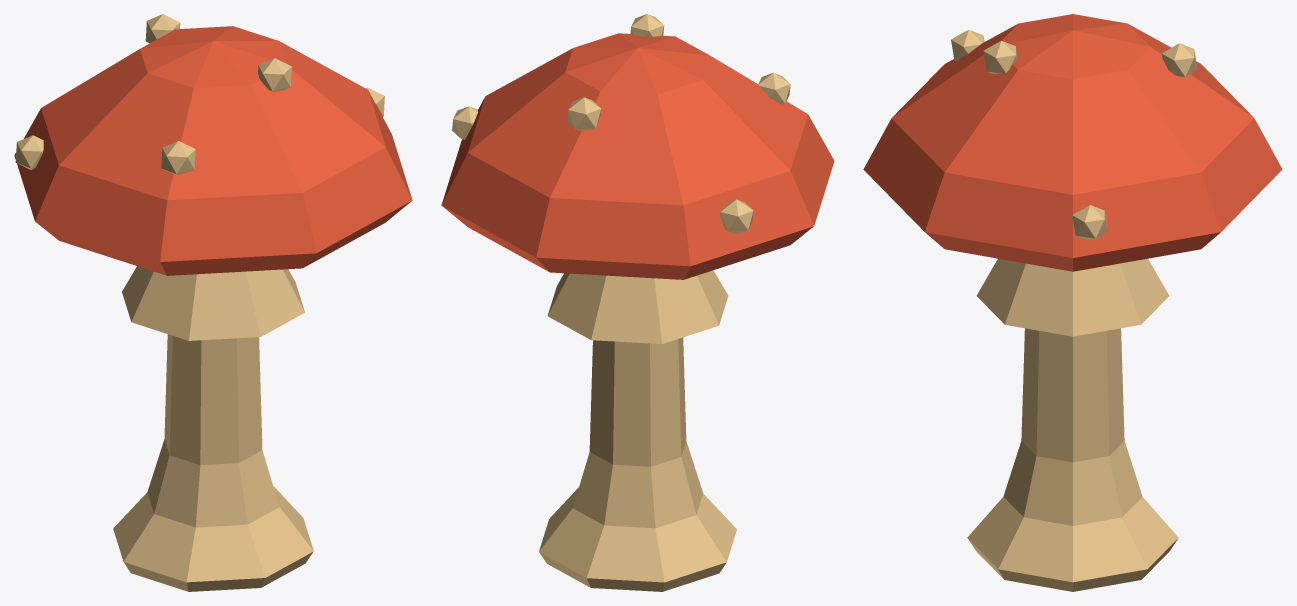
Rendered from Toadstool.fbx.
3 views of the same model, side by side, from view 1: azimuth 30°, elevation 25°; view 2: azimuth 150°, elevation 25°; view 3: azimuth 270°, elevation 25° (orthographic). The views are drawn at different scales.
Visible parts, largest first — view 1: Toadstool; view 2: Toadstool; view 3: Toadstool.
Boxes of the visible parts, left/top/right/bottom form: Toadstool: left=14, top=14, right=412, bottom=591; Toadstool: left=441, top=14, right=834, bottom=591; Toadstool: left=863, top=14, right=1282, bottom=591.
Bounding box in the file's own units: 0.4259 × 0.4259 × 0.5863.
